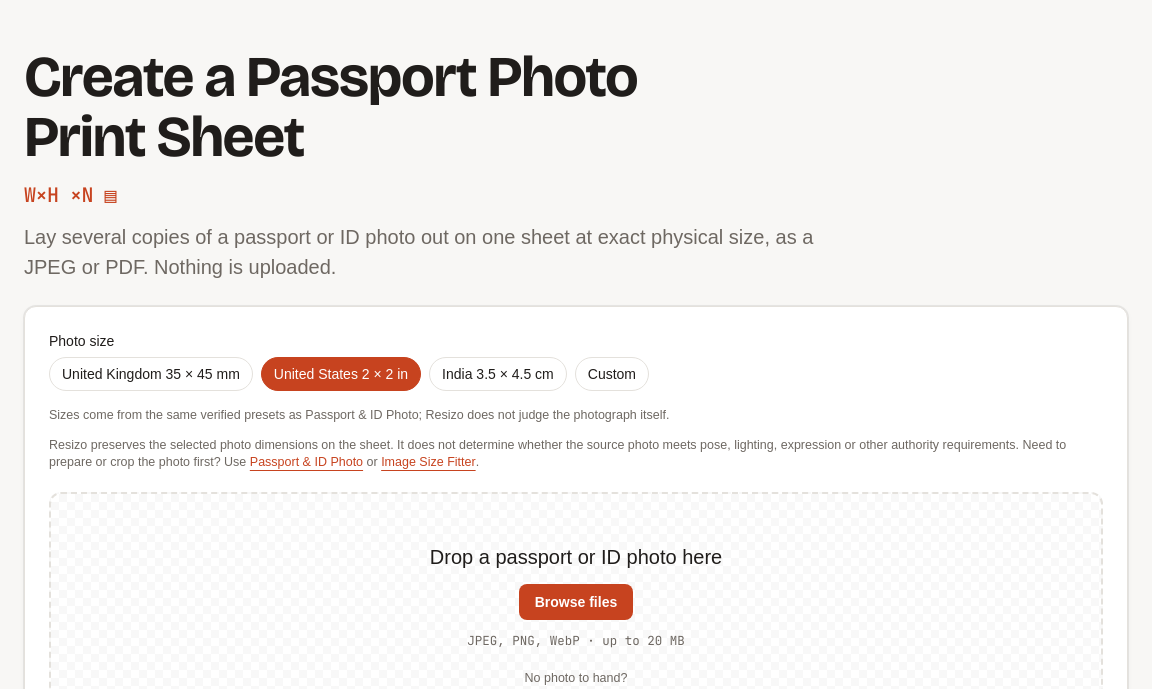
Test case: the Photo size chips › reveals Width, Height and Unit only once Custom is chosen
Click the button "Custom" at (612, 374), box [575, 357, 649, 391]
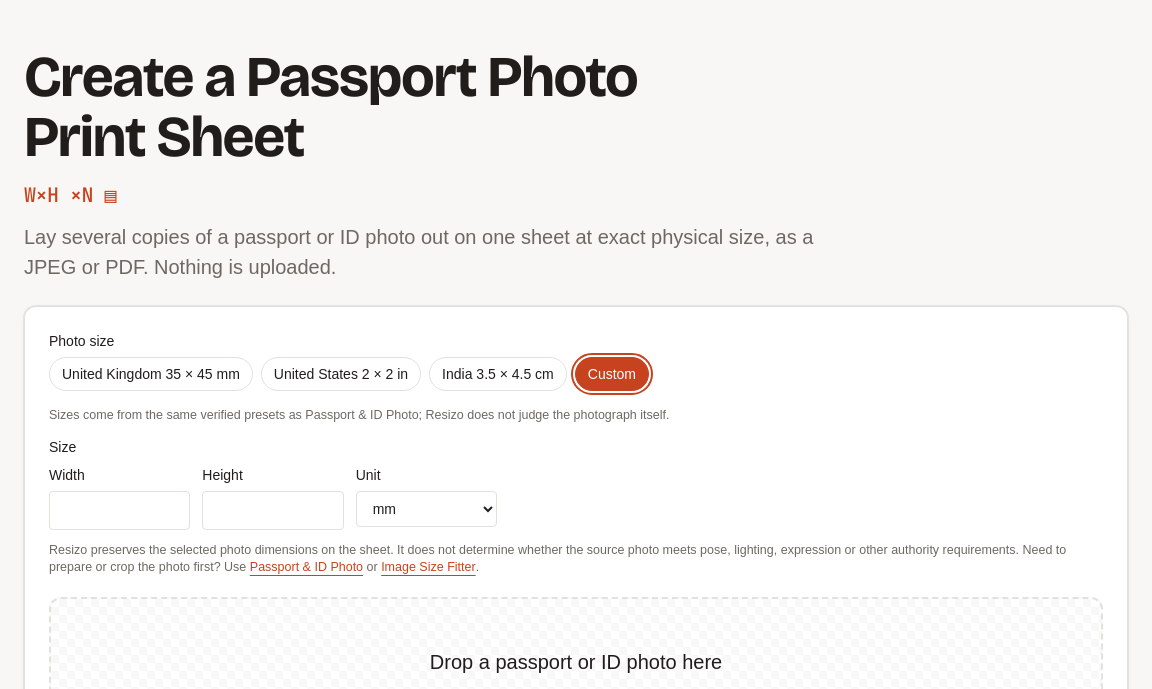
Result: the number field with id "sheet-photo-width" is shown at [49, 492, 190, 530]
Result: the number field with id "sheet-photo-height" is shown at [202, 492, 344, 530]
Result: the dropdown with id "sheet-photo-unit" is shown at [356, 492, 497, 528]
